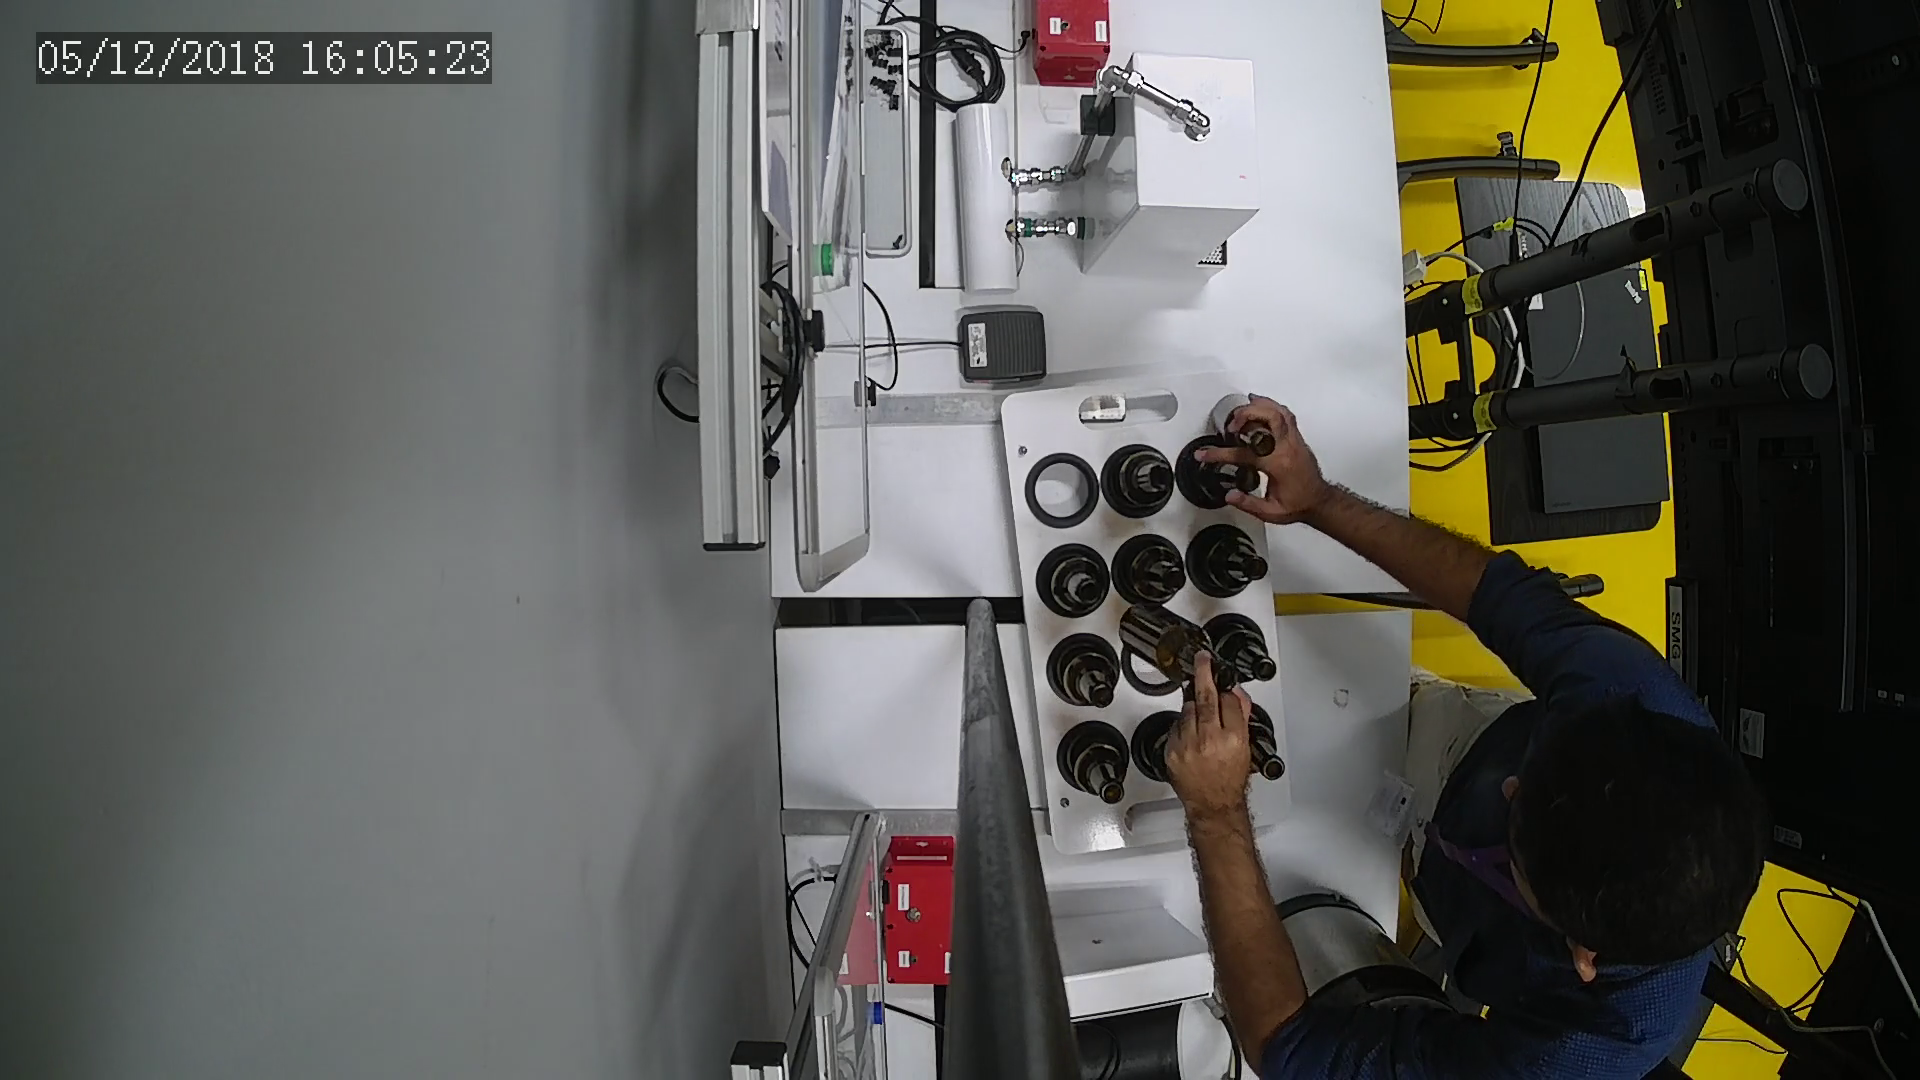filled_bottle: (1191, 524, 1273, 599), (1062, 723, 1131, 807), (1048, 632, 1120, 713), (1097, 447, 1174, 522), (1182, 434, 1255, 512), (1040, 543, 1114, 620), (1204, 616, 1273, 690), (1118, 541, 1189, 605), (1133, 711, 1176, 790), (1251, 703, 1280, 795)
trolley: (996, 365, 1303, 853)
